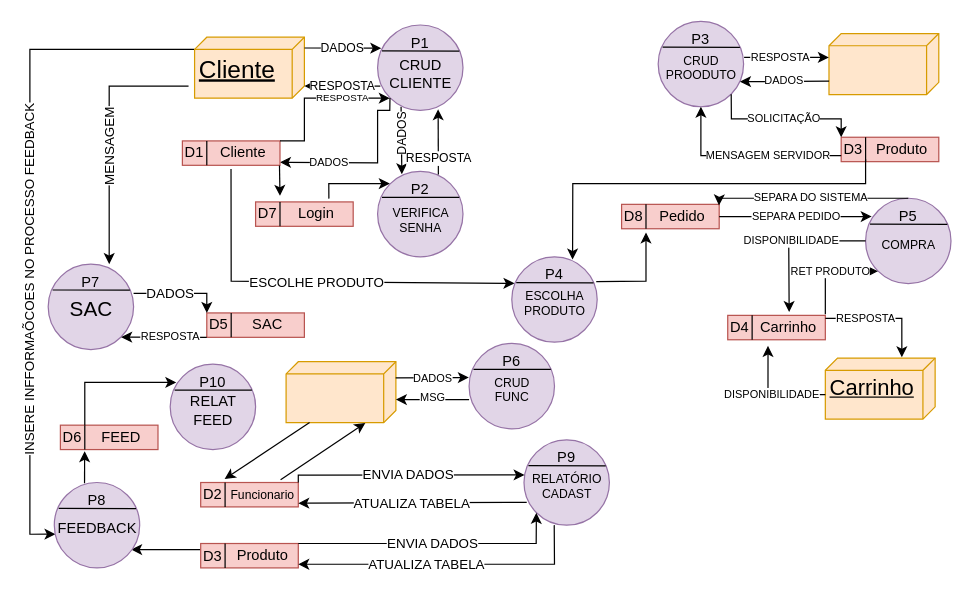
The diagram is 972 pixels wide and 597 high, and some of its shapes have lost their labels. Each missing label, with the centre of its shape:
Funcionário: (x=340, y=392)
Produtos: (x=883, y=63)
